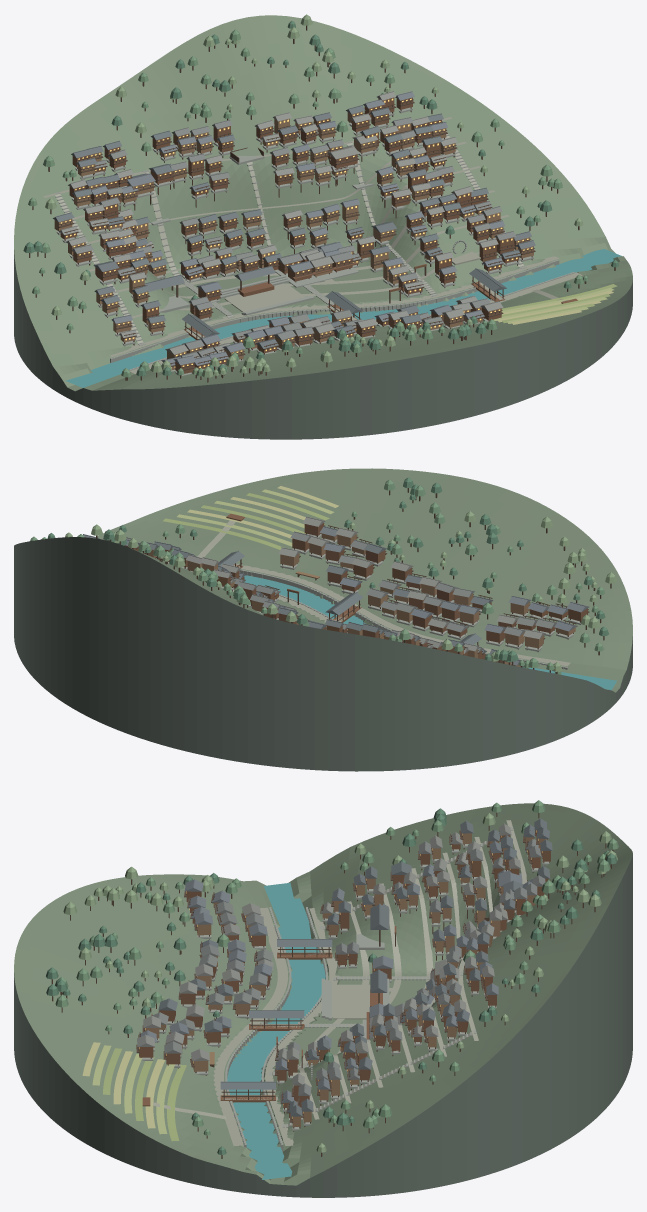
File: xijiang-valley.glb
3 renders of one model, top to bottom at view 1: azimuth 30°, elevation 25°; view 2: azimuth 150°, elevation 25°; view 3: azimuth 270°, elevation 25°, orthographic. The views are drawn at different scales.
Parts seen in each view (by area): view 1: Earth • moss and soil.003, Cut earth • layered edge.003, Timber • aged chestnut.003, Posts and balcony rails.003, River embankments • grey stone.003, Timber • warm variation.003, Grey tile 0.003, Walking lanes • pale stone.003, Grey tile 2.003, Grey tile 1.003, Grey tile 3.003, Baishui River.003 (+10 smaller); view 2: Cut earth • layered edge.003, Earth • moss and soil.003, Timber • aged chestnut.003, Timber • warm variation.003, Forest 1.003, River embankments • grey stone.003, Grey tile 1.003, Forest 0.003, Forest 2.003, Grey tile 2.003, Grey tile 0.003, Grey tile 3.003 (+6 smaller); view 3: Earth • moss and soil.003, Cut earth • layered edge.003, Walking lanes • pale stone.003, Baishui River.003, Grey tile 0.003, Timber • aged chestnut.003, Grey tile 2.003, Grey tile 1.003, River embankments • grey stone.003, Posts and balcony rails.003, Forest 1.003, Timber • warm variation.003 (+8 smaller).
Boxes of the visible parts, x1,y1,x2,y2 form: Earth • moss and soil.003: (14,15,632,391); Cut earth • layered edge.003: (14,250,632,439); Timber • aged chestnut.003: (60,97,519,373); Posts and balcony rails.003: (29,25,615,382); River embankments • grey stone.003: (54,107,575,375); Timber • warm variation.003: (54,111,533,370); Grey tile 0.003: (53,105,535,348); Walking lanes • pale stone.003: (43,117,582,373); Grey tile 2.003: (59,91,503,354); Grey tile 1.003: (71,117,516,358); Grey tile 3.003: (91,91,505,365); Baishui River.003: (65,249,621,387); Cut earth • layered edge.003: (14,537,632,771); Earth • moss and soil.003: (97,468,632,692); Timber • aged chestnut.003: (124,523,587,659); Timber • warm variation.003: (144,533,575,666); Forest 1.003: (30,479,605,674); River embankments • grey stone.003: (156,534,581,669); Grey tile 1.003: (126,531,556,652); Forest 0.003: (47,477,608,662); Forest 2.003: (65,511,616,671); Grey tile 2.003: (101,516,545,653); Grey tile 0.003: (103,539,497,656); Grey tile 3.003: (83,526,589,665); Earth • moss and soil.003: (14,803,632,1185); Cut earth • layered edge.003: (14,855,632,1197); Walking lanes • pale stone.003: (153,820,527,1145); Baishui River.003: (227,882,325,1179); Grey tile 0.003: (158,818,552,1116); Timber • aged chestnut.003: (139,830,550,1117); Grey tile 2.003: (137,823,520,1085); Grey tile 1.003: (153,839,545,1095); River embankments • grey stone.003: (141,827,549,1151); Posts and balcony rails.003: (51,812,613,1158); Forest 1.003: (55,800,618,1135); Timber • warm variation.003: (145,833,547,1126).
Size of the model in its own units: 76 by 24.77 by 66.
